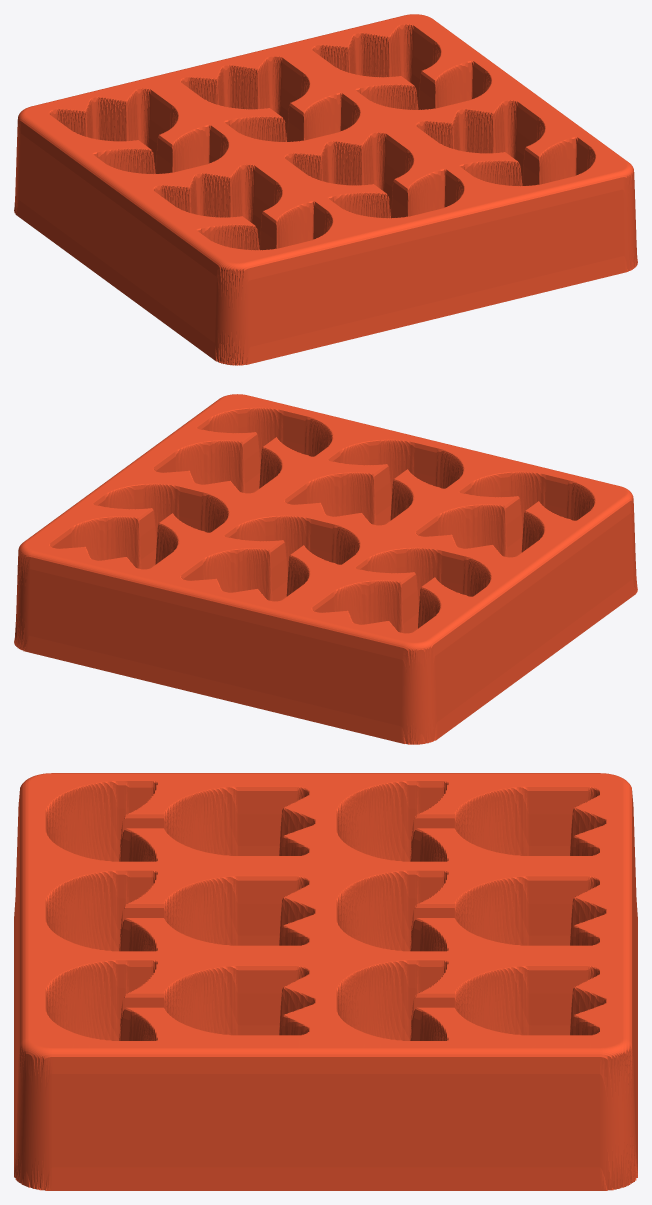
File: mold.glb
3 views of the same model, one above another, from view 1: azimuth 30°, elevation 25°; view 2: azimuth 150°, elevation 25°; view 3: azimuth 270°, elevation 25° (orthographic). The views are drawn at different scales.
Visible parts, largest first — view 1: geometry_0; view 2: geometry_0; view 3: geometry_0.
Boxes of the visible parts, x1,y1,x2,y2 form: geometry_0: (14,14,637,365); geometry_0: (14,394,637,744); geometry_0: (14,773,637,1190).
Bounding box in the file's own units: 0.1622 × 0.036 × 0.1492.
